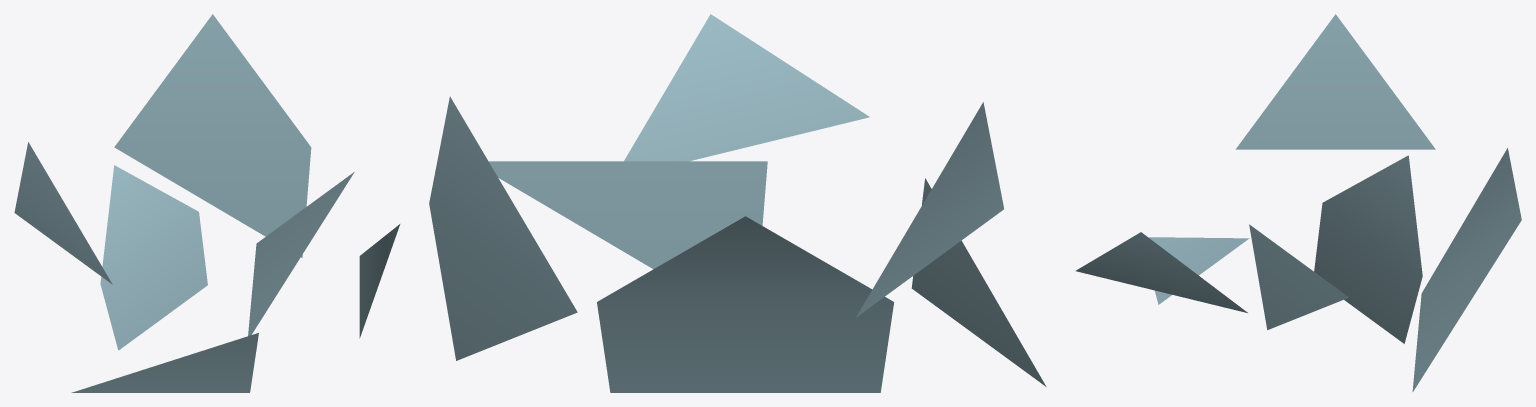
Rendered from cc0-grass-leafs-lod1.glb.
3 views of the same model, side by side, from view 1: azimuth 30°, elevation 25°; view 2: azimuth 150°, elevation 25°; view 3: azimuth 270°, elevation 25° (orthographic). The views are drawn at different scales.
Visible parts, largest first — view 1: part_0; view 2: part_0; view 3: part_0.
Boxes of the visible parts, x1,y1,x2,y2 form: part_0: (14, 14, 400, 392); part_0: (429, 14, 1046, 392); part_0: (1076, 14, 1521, 391).
Bounding box in the file's own units: 0.2256 × 0.1425 × 0.2573.
